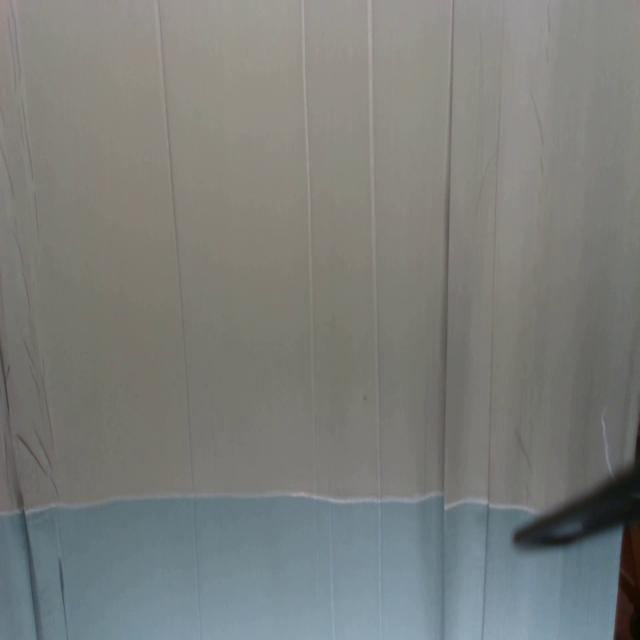crease: (155, 0, 202, 639), (480, 0, 506, 639), (366, 0, 383, 636), (440, 1, 456, 640), (301, 1, 318, 493), (16, 474, 42, 639), (10, 228, 34, 308), (327, 502, 338, 640), (7, 0, 23, 91), (15, 434, 47, 477), (18, 95, 34, 181), (529, 86, 549, 146), (42, 378, 58, 448), (57, 550, 69, 640), (0, 146, 20, 200), (0, 344, 11, 412), (32, 187, 42, 235)
